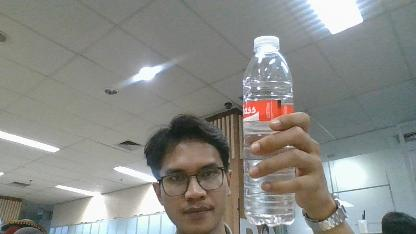Plastic Bottle: (242, 34, 297, 226)
